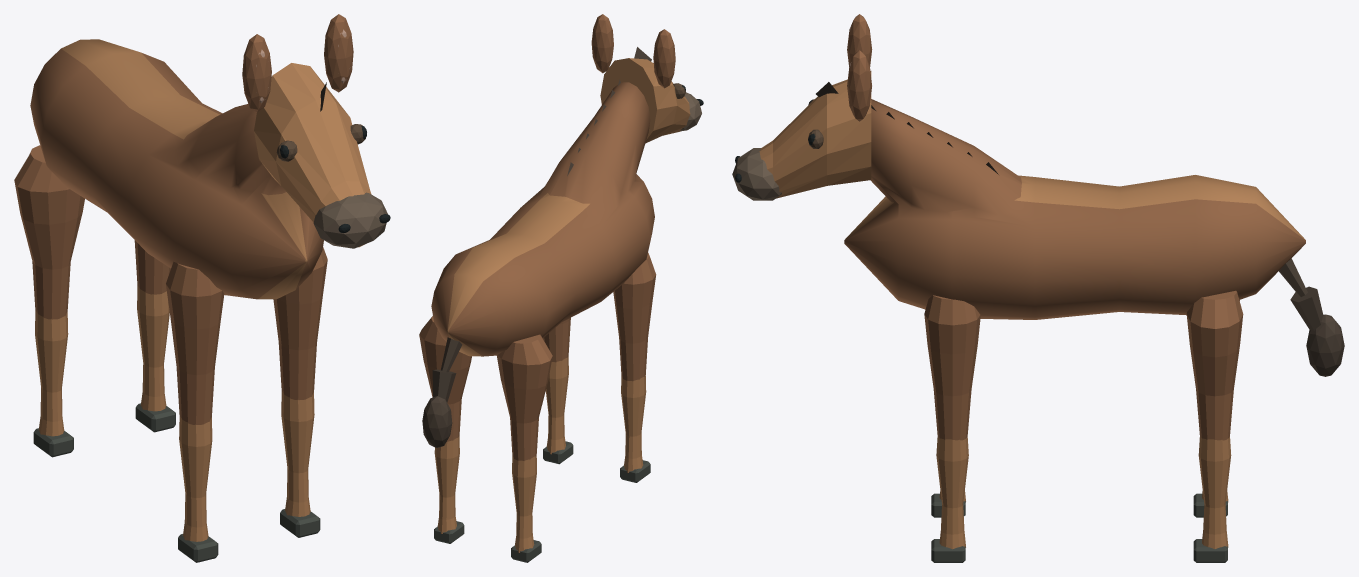
File: horse-v2.glb
3 renders of one model, left to right at view 1: azimuth 30°, elevation 25°; view 2: azimuth 150°, elevation 25°; view 3: azimuth 270°, elevation 25°, orthographic. The views are drawn at different scales.
Parts seen in each view (by area): view 1: Body_mesh, Head_mesh, UpperLeg.002_mesh, UpperLeg_mesh, UpperLeg.001_mesh, LowerLeg.001_mesh, LowerLeg_mesh, LowerLeg.002_mesh, LowerLeg.003_mesh, Ear_mesh, Ear.001_mesh, UpperLeg.003_mesh (+4 smaller); view 2: Body_mesh, UpperLeg.002_mesh, Head_mesh, UpperLeg_mesh, UpperLeg.003_mesh, Tail_mesh, LowerLeg_mesh, LowerLeg.002_mesh, LowerLeg.003_mesh, LowerLeg.001_mesh, Ear_mesh, Ear.001_mesh (+5 smaller); view 3: Body_mesh, Head_mesh, UpperLeg.003_mesh, UpperLeg.001_mesh, Tail_mesh, LowerLeg.001_mesh, LowerLeg.003_mesh, Ear.001_mesh, Ear_mesh.
Part boxes in pixels (x1,y1,x2,y2): Body_mesh: (30,39,323,299); Head_mesh: (254,63,390,248); UpperLeg.002_mesh: (14,145,84,319); UpperLeg_mesh: (166,261,224,424); UpperLeg.001_mesh: (273,247,327,399); LowerLeg.001_mesh: (281,391,314,516); LowerLeg_mesh: (179,416,212,541); LowerLeg.002_mesh: (35,311,68,436); LowerLeg.003_mesh: (137,286,169,411); Ear_mesh: (242,34,271,112); Ear.001_mesh: (324,14,353,92); UpperLeg.003_mesh: (134,240,170,294); Body_mesh: (431,82,654,356); UpperLeg.002_mesh: (497,334,552,460); Head_mesh: (600,58,703,143); UpperLeg_mesh: (613,252,656,381); UpperLeg.003_mesh: (419,316,471,442); Tail_mesh: (422,337,462,447); LowerLeg_mesh: (621,375,646,472); LowerLeg.002_mesh: (512,455,536,552); LowerLeg.003_mesh: (434,436,459,533); LowerLeg.001_mesh: (546,356,568,454); Ear_mesh: (653,29,675,88); Ear.001_mesh: (591,14,613,73); Body_mesh: (844,99,1305,319); Head_mesh: (732,71,871,200); UpperLeg.003_mesh: (1186,290,1243,440); UpperLeg.001_mesh: (924,295,980,440); Tail_mesh: (1279,258,1344,376); LowerLeg.001_mesh: (936,436,968,549); LowerLeg.003_mesh: (1198,436,1231,548); Ear.001_mesh: (847,50,871,121); Ear_mesh: (847,14,872,67).
Bounding box in the file's own units: 0.7252 × 2.26 × 2.49.
